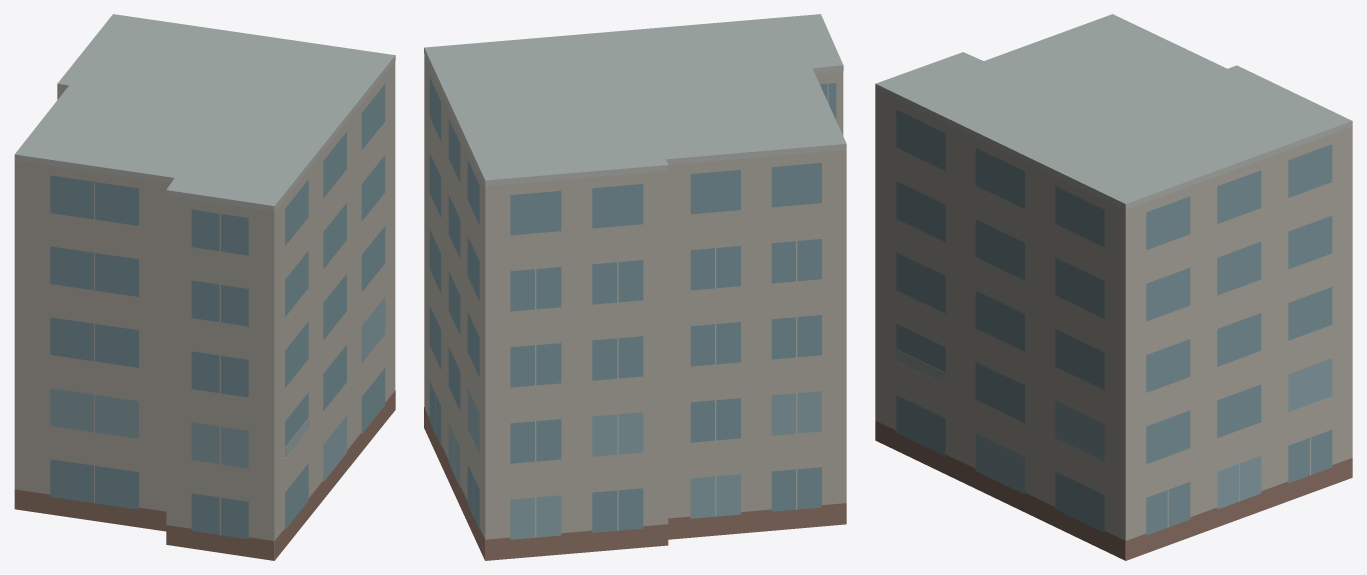
File: survey-upis-32694738.glb
The picture shows the model from 3 angles, left to right: view 1: azimuth 30°, elevation 25°; view 2: azimuth 150°, elevation 25°; view 3: azimuth 270°, elevation 25°; orthographic projection. The views are drawn at different scales.
Visible parts, largest first — view 1: survey-upis-32694738.tmp; view 2: survey-upis-32694738.tmp; view 3: survey-upis-32694738.tmp.
Part boxes in pixels (x1,y1,x2,y2): survey-upis-32694738.tmp: [14, 14, 395, 560]; survey-upis-32694738.tmp: [424, 14, 846, 560]; survey-upis-32694738.tmp: [875, 14, 1352, 560].
Bounding box in the file's own units: 17.44 × 15.25 × 18.49.
